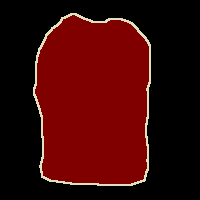hat: (34, 14, 150, 185)
